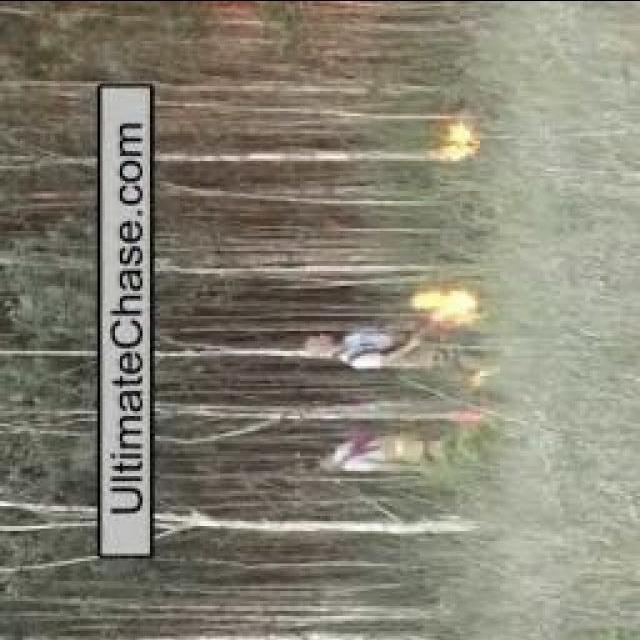Fire: (408, 289, 483, 327), (429, 117, 489, 162), (465, 362, 495, 393), (450, 404, 486, 429)
